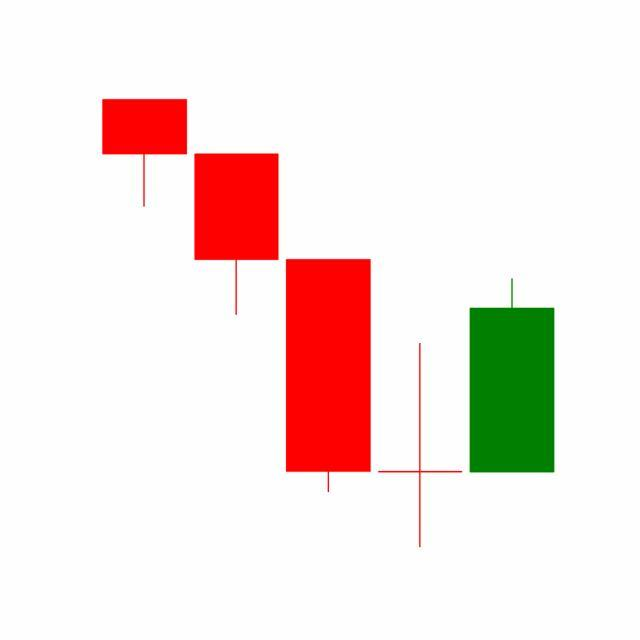Spinning Top: (374, 341, 468, 550)
